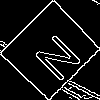N: (25, 25, 84, 84)
